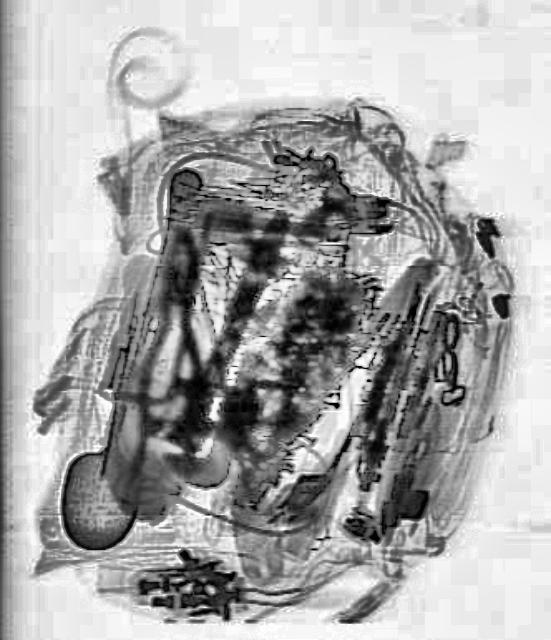Pliers: (123, 222, 221, 482)
